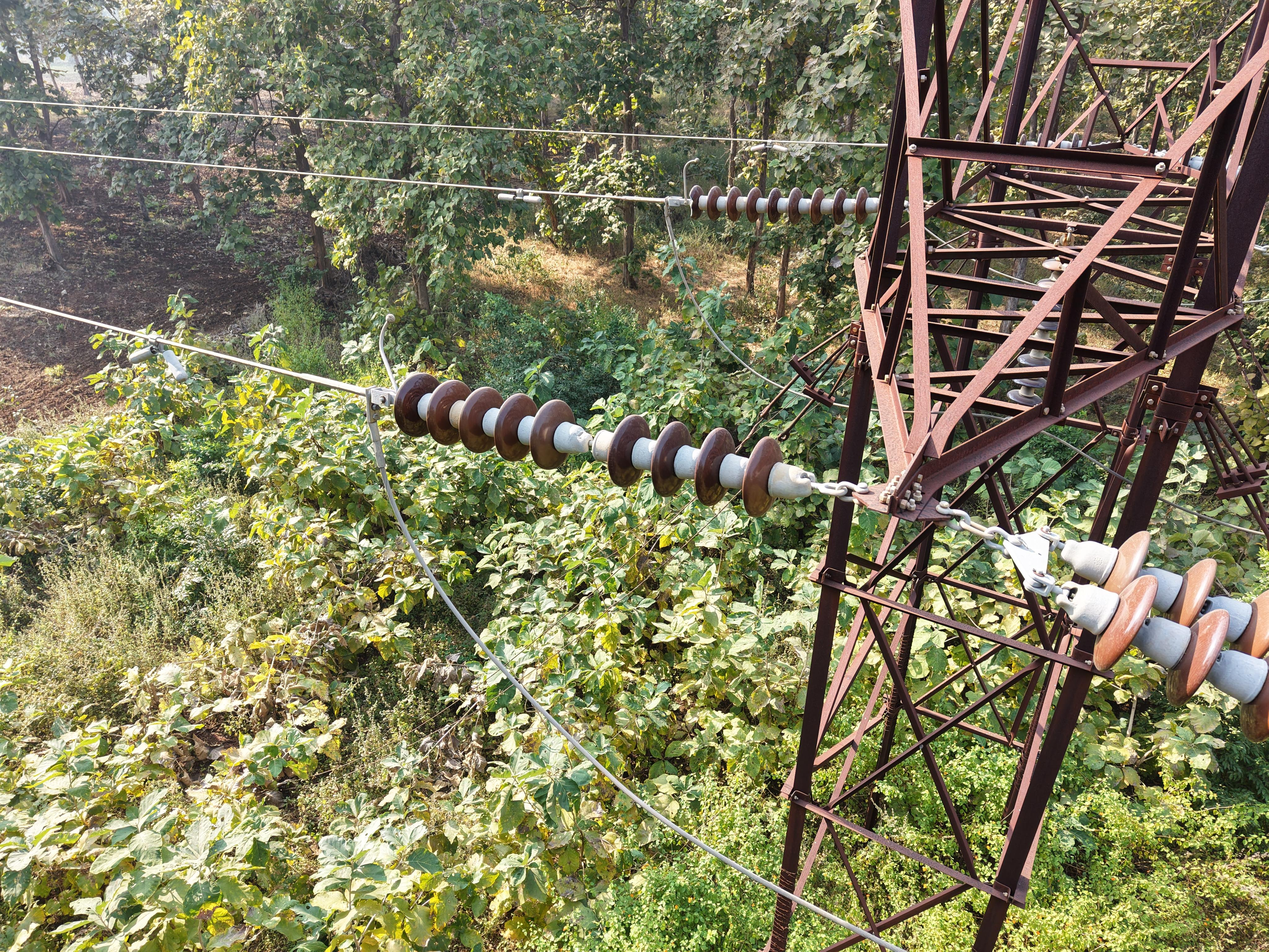broken_insulator: (575, 402, 602, 482), (687, 184, 705, 221)
